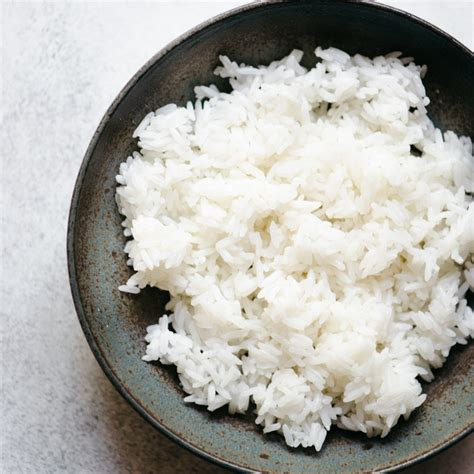rice: (143, 81, 463, 405)
